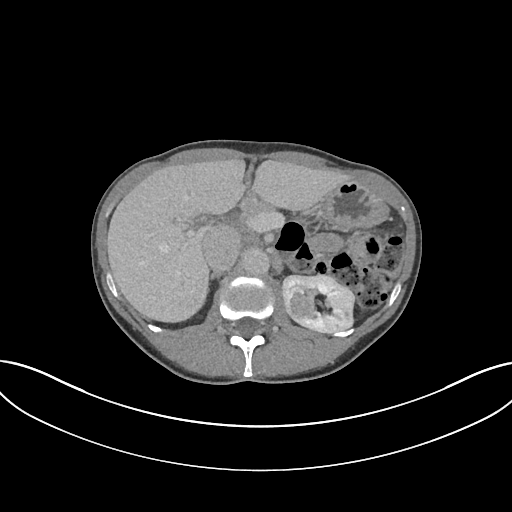Lesion: (287, 292, 318, 323)
